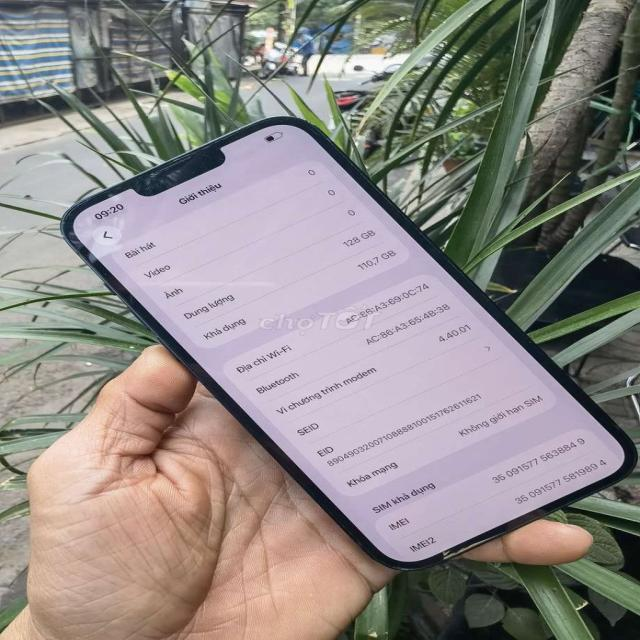gen_14: (51, 114, 634, 576)
